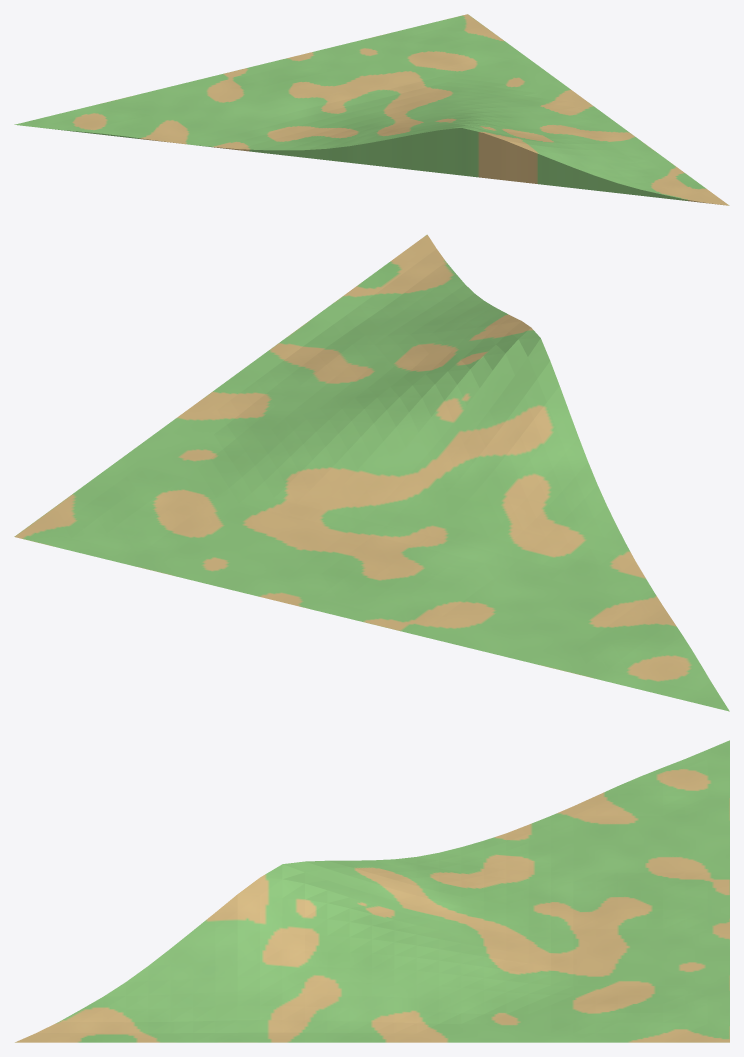
The model's file is Grass_Hills_07_SE.obj.
3 views of the same model, one above another, from view 1: azimuth 30°, elevation 25°; view 2: azimuth 150°, elevation 25°; view 3: azimuth 270°, elevation 25° (orthographic). The views are drawn at different scales.
Bounding box in the file's own units: 10 × 1 × 10.
1 material, 1 textured.
